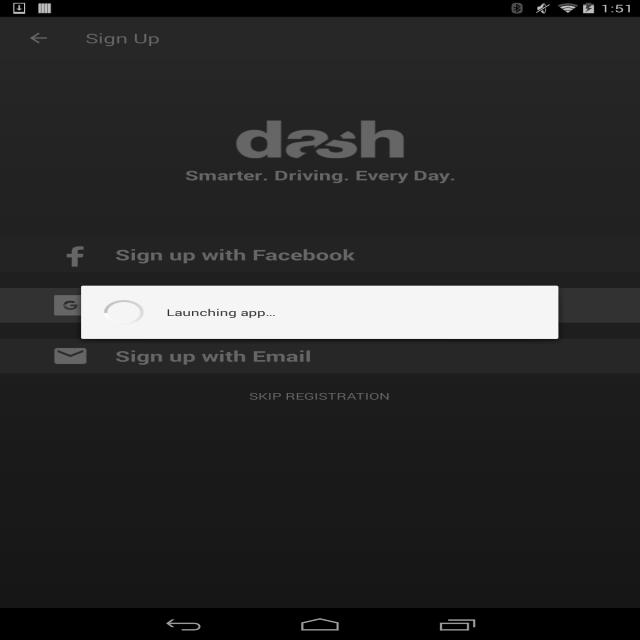Button: (22, 502, 192, 534)
ImageButton: (9, 17, 68, 59)
ImageView: (0, 59, 640, 201), (349, 289, 626, 539), (197, 22, 443, 54), (56, 576, 90, 597), (192, 576, 226, 597), (414, 576, 448, 597), (550, 576, 584, 597), (303, 569, 337, 590), (401, 95, 427, 111), (401, 136, 427, 152), (158, 95, 183, 111), (158, 136, 183, 152)
TextView: (14, 233, 626, 289), (427, 94, 636, 112), (427, 136, 636, 154), (184, 94, 392, 112), (184, 136, 392, 154), (401, 112, 636, 125), (401, 153, 636, 166), (158, 112, 392, 125), (158, 153, 392, 166), (267, 213, 373, 233), (19, 162, 134, 178), (8, 545, 108, 556), (68, 105, 86, 133), (295, 588, 344, 598)
